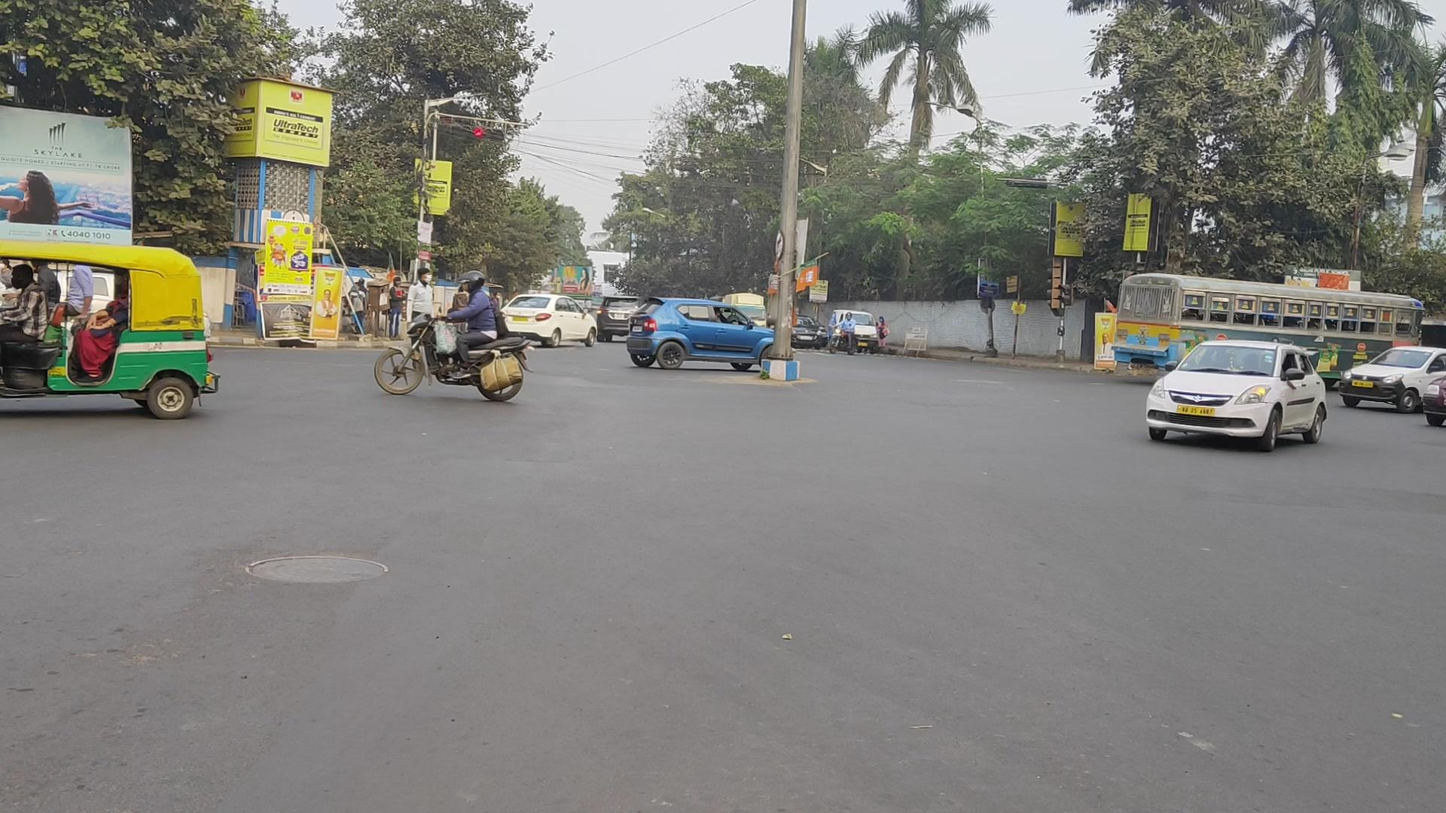Auto: (1, 239, 221, 420)
Bus: (1111, 273, 1425, 397)
bike: (375, 270, 533, 402), (829, 312, 859, 356)
car: (1145, 340, 1328, 453), (627, 297, 789, 370), (1339, 346, 1446, 414), (499, 293, 598, 348), (596, 294, 645, 343), (831, 309, 879, 355), (786, 315, 823, 350)
